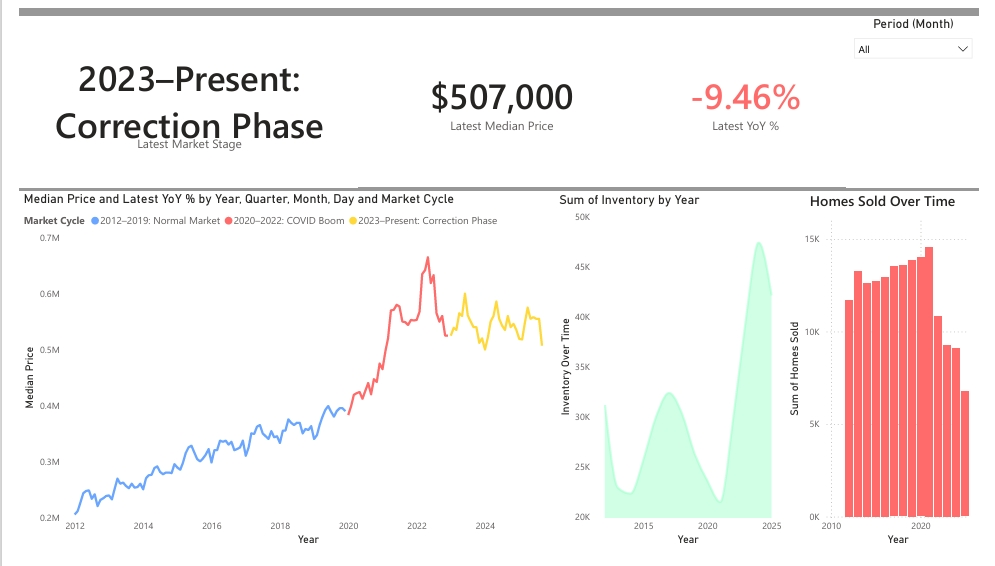

This screenshot's page, from the dashboard's own definition file:
{"tool":"powerbi","page":{"name":"Market Cycle Line Chart Visualization","canvas":[1280,720],"ordinal":0},"visuals":[{"type":"lineChart","fields":{"Y":["austin_sales.Median Price"],"Series":["austin_sales.Market Cycle"],"Category":["austin_sales.Month of Period End.Variation.Date Hierarchy.Year","austin_sales.Month of Period End.Variation.Date Hierarchy.Quarter","austin_sales.Month of Period End.Variation.Date Hierarchy.Month","austin_sales.Month of Period End.Variation.Date Hierarchy.Day"]},"box":[0,243,714.2,477.8],"z":0},{"type":"card","fields":{"Values":["austin_sales.Latest Market Stage"]},"box":[0,10.2,452.2,228.3],"z":1000},{"type":"card","fields":{"Values":["austin_sales.Latest Median Price"]},"box":[451.7,10,381.7,228.3],"z":2000},{"type":"card","fields":{"Values":["austin_sales.Latest YoY %"]},"box":[833.3,10,268.3,228.3],"z":3000},{"type":"areaChart","fields":{"Category":["austin_sales.Month of Period End.Variation.Date Hierarchy.Year","austin_sales.Month of Period End.Variation.Date Hierarchy.Quarter","austin_sales.Month of Period End.Variation.Date Hierarchy.Month","austin_sales.Month of Period End.Variation.Date Hierarchy.Day"],"Y":["Sum(austin_sales.Inventory)"]},"box":[714.1,244.4,305.9,475.6],"z":4000},{"type":"clusteredColumnChart","title":"Homes Sold Over Time","fields":{"Category":["austin_sales.Month of Period End.Variation.Date Hierarchy.Year","austin_sales.Month of Period End.Variation.Date Hierarchy.Quarter","austin_sales.Month of Period End.Variation.Date Hierarchy.Month","austin_sales.Month of Period End.Variation.Date Hierarchy.Day"],"Y":["Sum(austin_sales.Homes Sold)"]},"box":[1020.3,243.5,259.4,476.8],"z":5000},{"type":"slicer","title":"Period (Month)","fields":{"Values":["austin_sales.Month of Period End"]},"box":[1102,10.2,178.5,228.3],"z":6000}]}

Visuals, with their boxes in screenshot pixels (x1, y1, x2, y2), scaled from the page's 1280x720 canvas onto the 995x566 screenshot:
lineChart - austin_sales.Median Price x austin_sales.Market Cycle: <bbox>0, 191, 555, 565</bbox>
card - austin_sales.Latest Market Stage: <bbox>0, 8, 352, 187</bbox>
card - austin_sales.Latest Median Price: <bbox>351, 8, 648, 187</bbox>
card - austin_sales.Latest YoY %: <bbox>648, 8, 856, 187</bbox>
areaChart - austin_sales.Month of Period End.Variation.Date Hierarchy.Year x austin_sales.Month of Period End.Variation.Date Hierarchy.Quarter: <bbox>555, 192, 793, 565</bbox>
"Homes Sold Over Time" clusteredColumnChart: <bbox>793, 191, 994, 565</bbox>
"Period (Month)" slicer: <bbox>857, 8, 994, 187</bbox>
